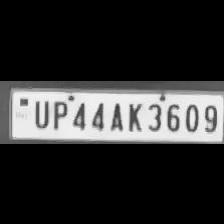0: (180, 100, 200, 132)
3: (144, 99, 162, 131)
4: (68, 97, 88, 129), (88, 97, 106, 130)
6: (163, 99, 181, 131)
9: (200, 100, 218, 132)
A: (107, 98, 125, 130)
K: (122, 99, 144, 131)
P: (48, 97, 68, 129)
U: (30, 97, 50, 128)
